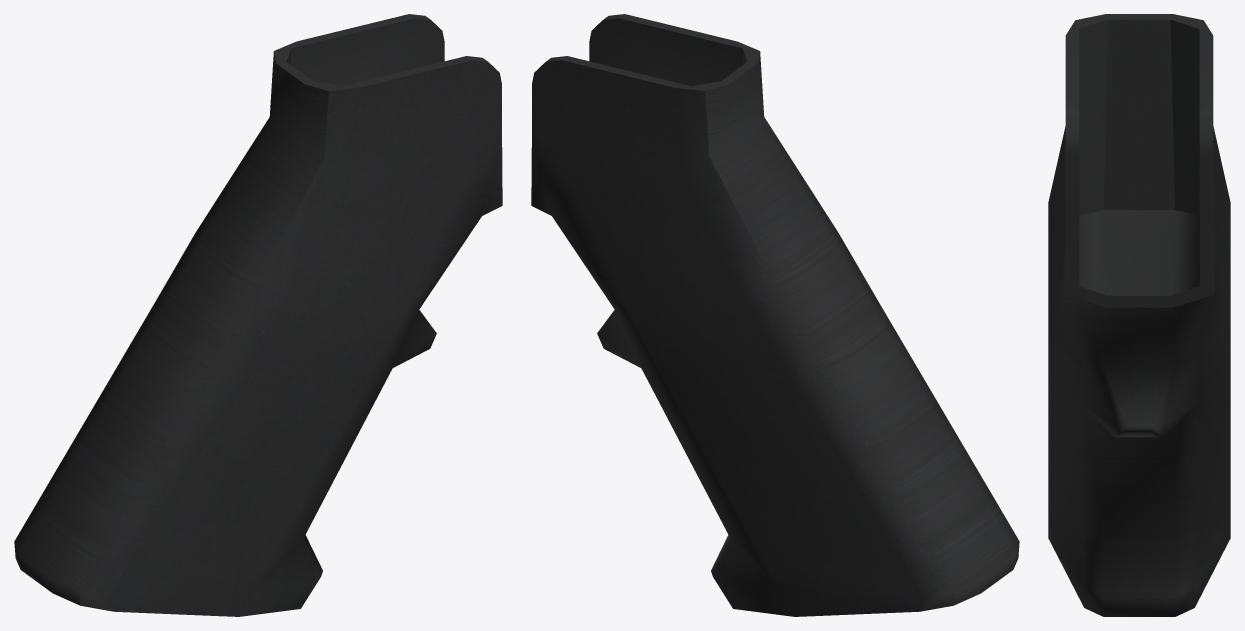
Rendered from Pistol_Grip.dae.
3 renders of one model, left to right at view 1: azimuth 30°, elevation 25°; view 2: azimuth 150°, elevation 25°; view 3: azimuth 270°, elevation 25°, orthographic. The views are drawn at different scales.
Parts seen in each view (by area): view 1: Pistol_Grip; view 2: Pistol_Grip; view 3: Pistol_Grip.
Boxes of the visible parts, left/top/right/bottom form: Pistol_Grip: left=14, top=14, right=502, bottom=616; Pistol_Grip: left=531, top=14, right=1019, bottom=616; Pistol_Grip: left=1048, top=14, right=1230, bottom=616.
Bounding box in the file's own units: 0.0863 × 0.0268 × 0.0981.
Materials: 1 (1 with a texture image).
